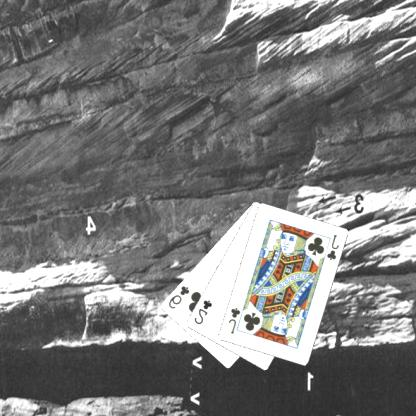2C: (193, 297, 215, 326)
6C: (167, 282, 192, 310)
JC: (227, 304, 243, 336), (326, 231, 342, 262)
